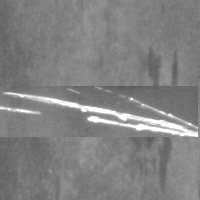inclusion: (135, 43, 180, 196)
scratches: (0, 86, 198, 137)
